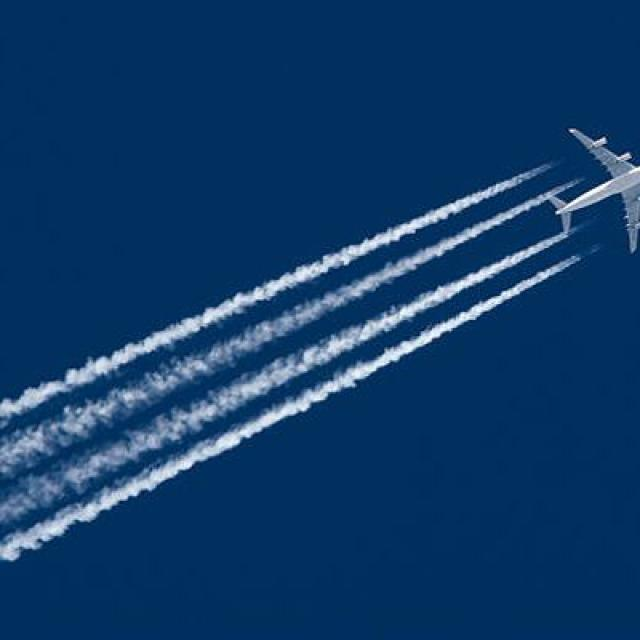Ct: (1, 156, 623, 477)
